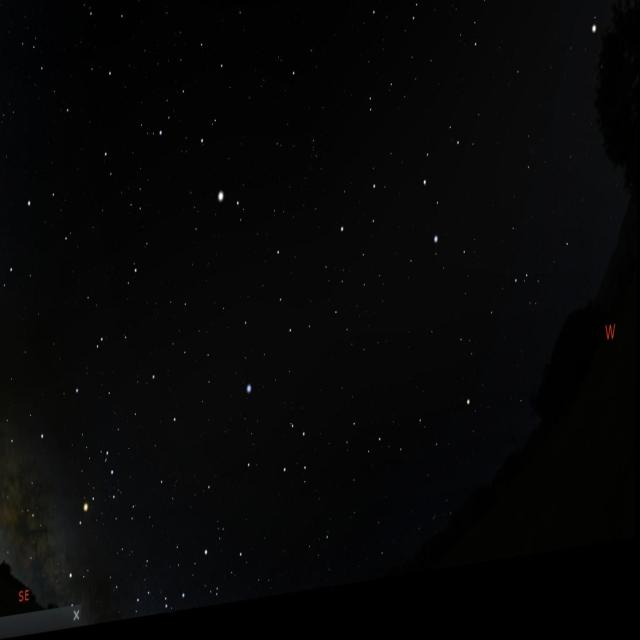bootes: (170, 42, 242, 236)
leo: (339, 124, 479, 294)
scorpius: (44, 434, 129, 578)
